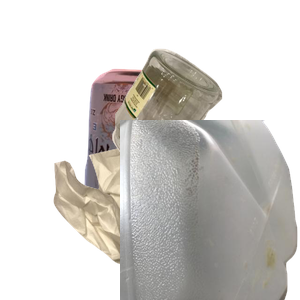glass: (110, 46, 300, 205)
metal: (82, 66, 270, 246)
plastic: (120, 120, 300, 300)
trash: (51, 142, 278, 300)
